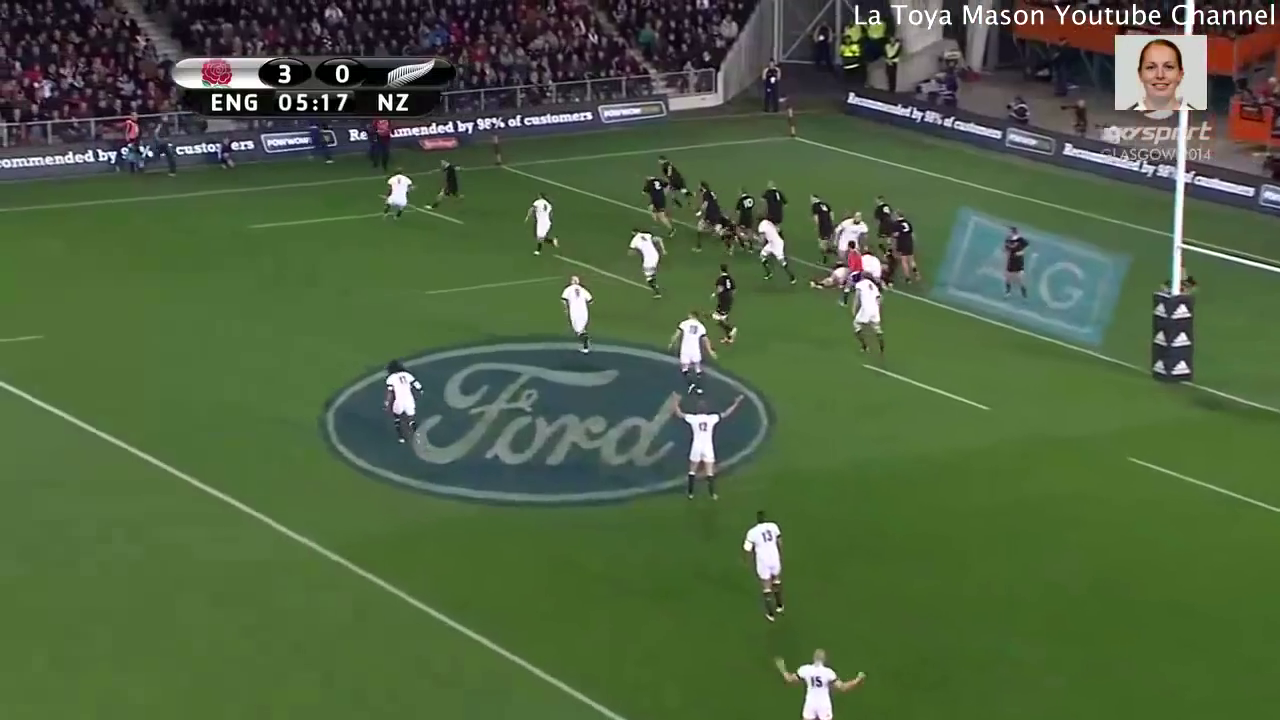player: (667, 385, 747, 503), (761, 636, 868, 720), (745, 506, 797, 629), (377, 350, 433, 452), (663, 304, 716, 404), (842, 262, 893, 363), (997, 218, 1042, 316), (624, 223, 672, 311), (419, 154, 476, 220), (752, 212, 799, 292), (373, 160, 421, 235), (553, 273, 599, 350), (687, 175, 729, 259), (634, 172, 685, 240), (519, 189, 567, 260), (707, 262, 740, 351), (887, 208, 922, 289), (727, 180, 761, 258), (805, 192, 840, 265), (837, 238, 867, 317), (652, 151, 688, 209), (757, 179, 792, 237), (869, 193, 897, 264), (831, 208, 867, 257), (849, 249, 888, 287)
post: (1122, 27, 1280, 401)
